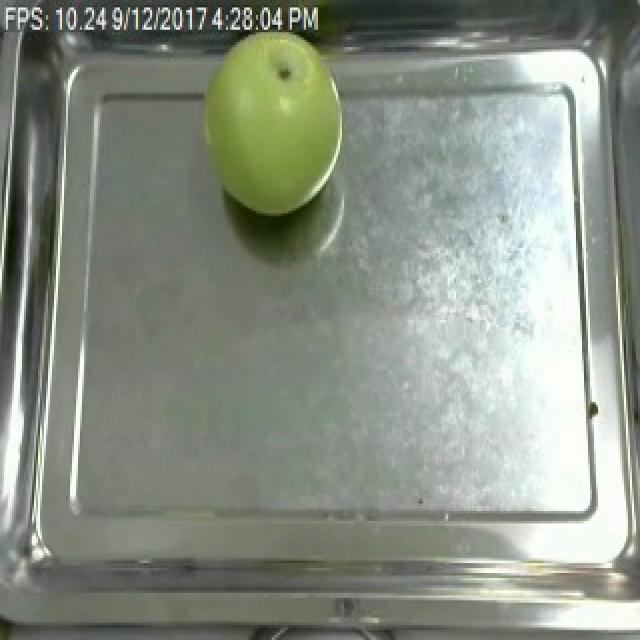50-_ripeness: (202, 27, 344, 224)
